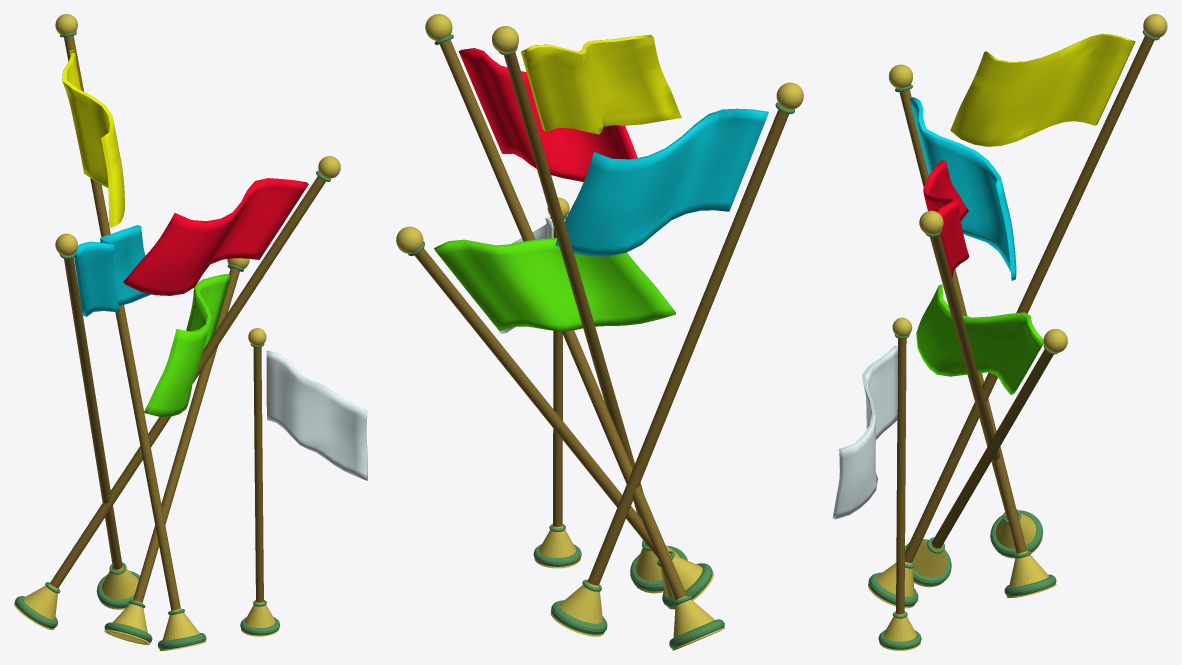
Rendered from flags-gJtzzg5c.glb.
3 views of the same model, side by side, from view 1: azimuth 30°, elevation 25°; view 2: azimuth 150°, elevation 25°; view 3: azimuth 270°, elevation 25° (orthographic). The views are drawn at different scales.
Visible parts, largest first — view 1: Torus.002, Torus.004; view 2: Torus.002, Torus.004; view 3: Torus.002, Torus.004.
Boxes of the visible parts, x1=… form: Torus.002: x1=14, y1=14, x2=367, y2=650; Torus.004: x1=62, y1=50, x2=308, y2=316; Torus.002: x1=396, y1=14, x2=803, y2=650; Torus.004: x1=458, y1=34, x2=768, y2=256; Torus.002: x1=832, y1=14, x2=1167, y2=650; Torus.004: x1=909, y1=33, x2=1135, y2=280.
Bounding box in the file's own units: 7.42 × 13.11 × 6.73.
Materials: 3 (3 with a texture image).
